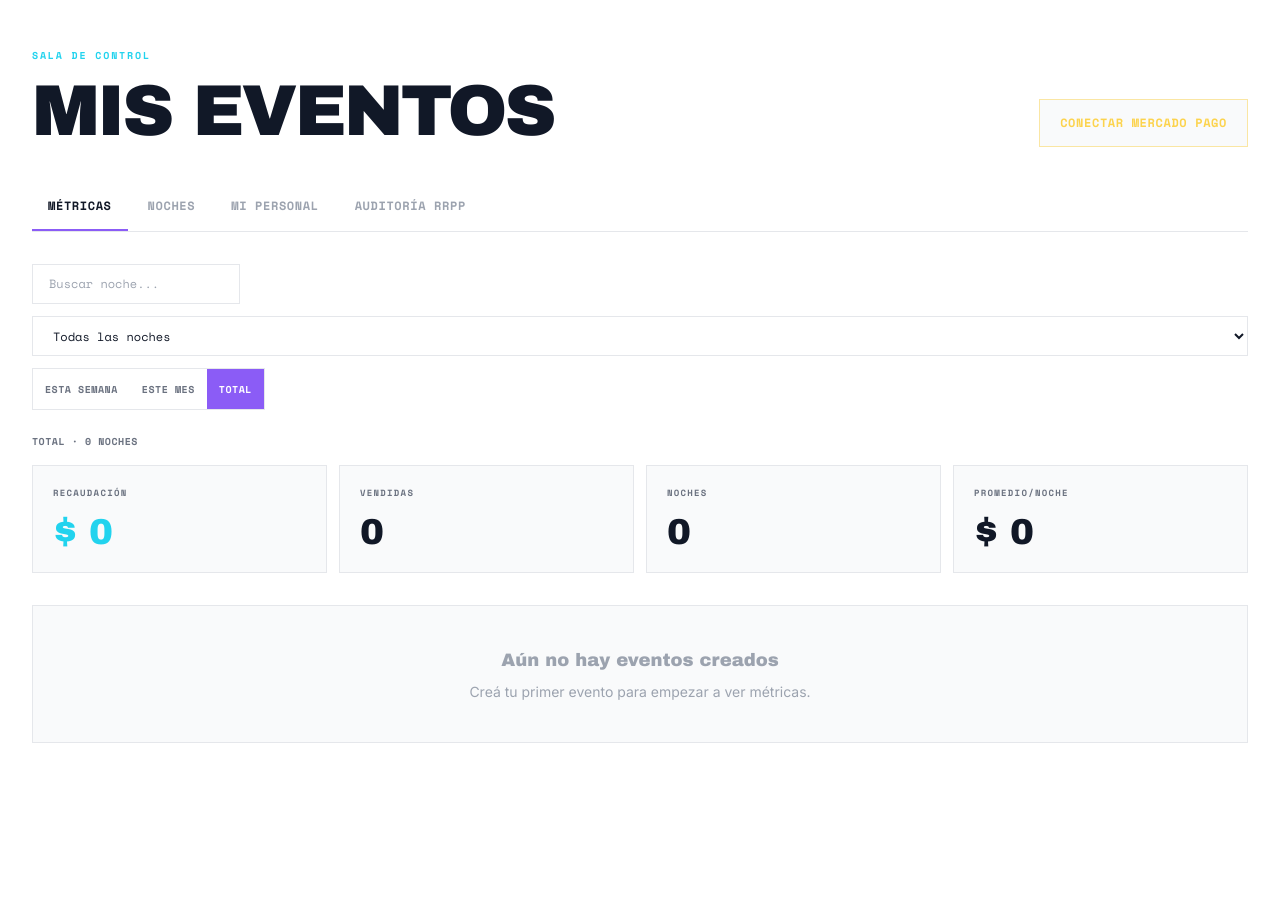
Test: DashboardPage › tab navigation › switches to Noches tab on click
This screenshot has width=1280, height=900.
Click the tab "Noches": point(171, 207) top-left (132, 183), bottom-right (211, 231)
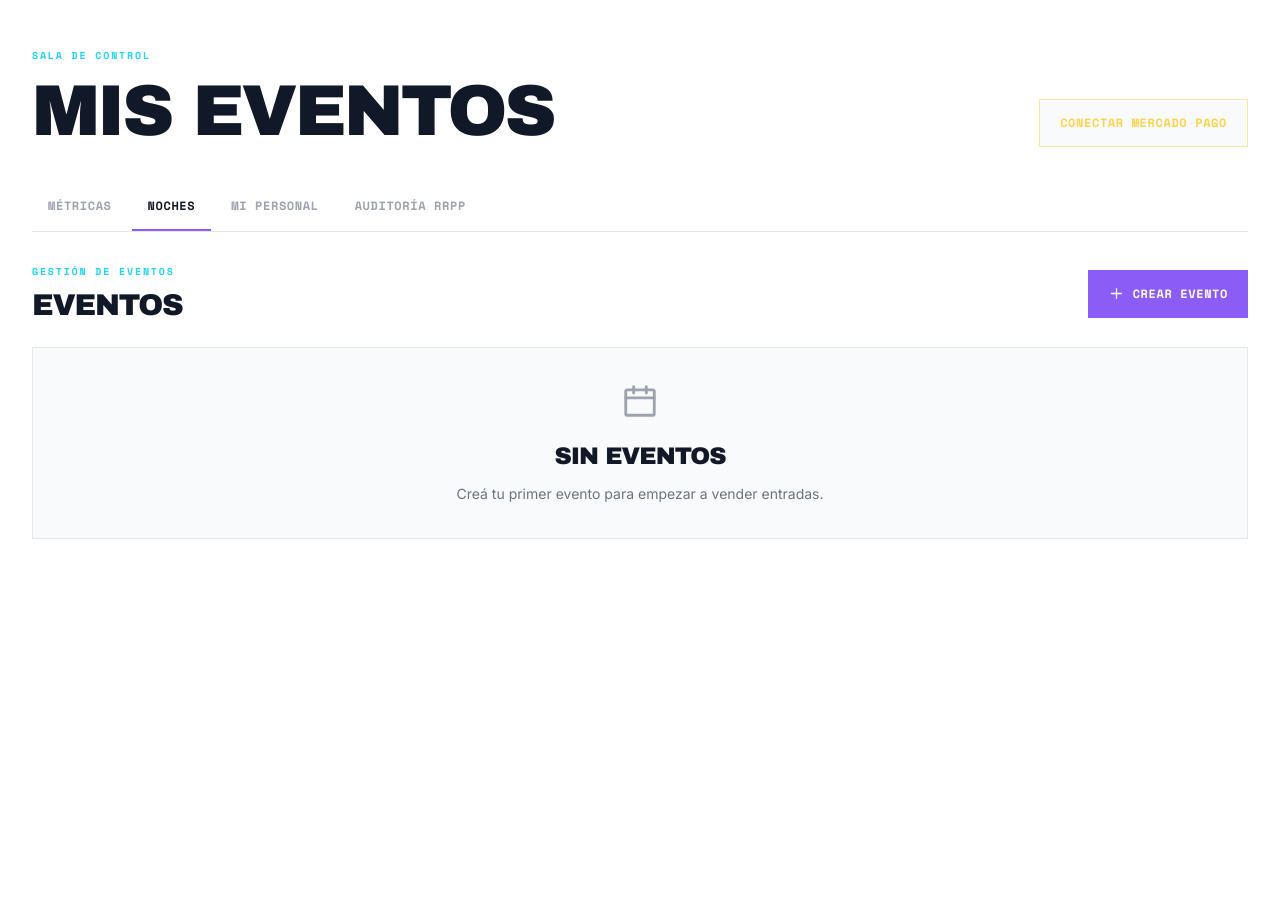
Check: the element with test id "noches-tab" is shown, box top-left (32, 264), bottom-right (1248, 539)
Check: the element with test id "metricas-tab" is gone
